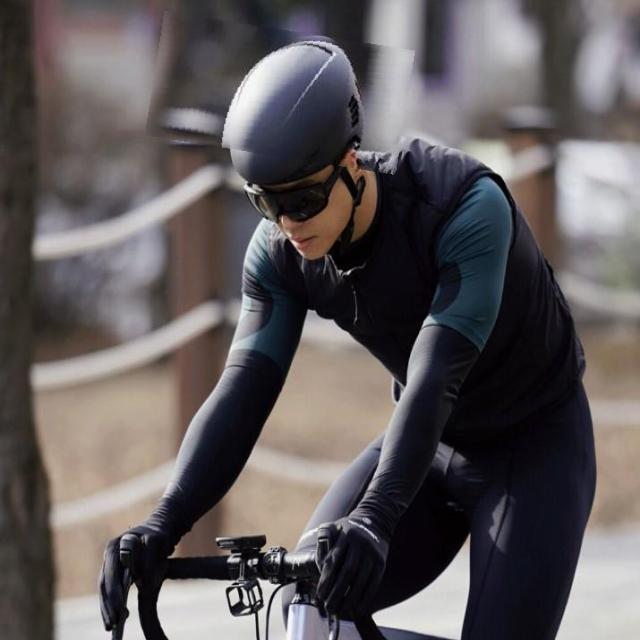helmet: (149, 21, 411, 166)
